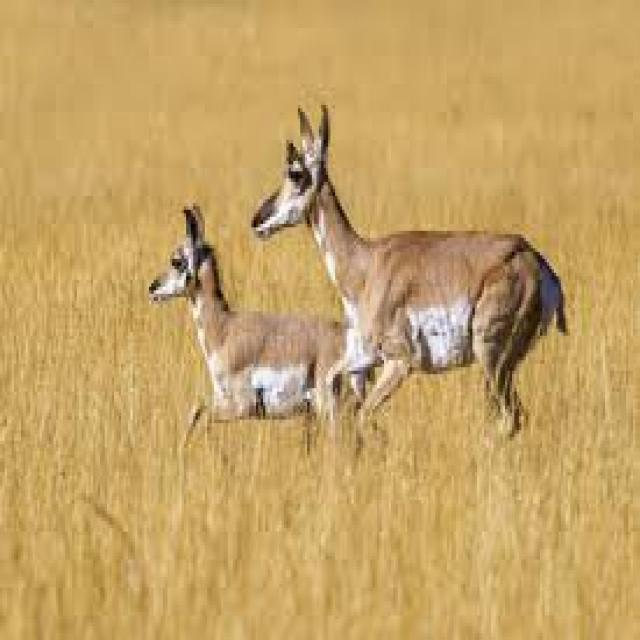Antelope: (252, 94, 574, 439), (137, 195, 351, 436)
